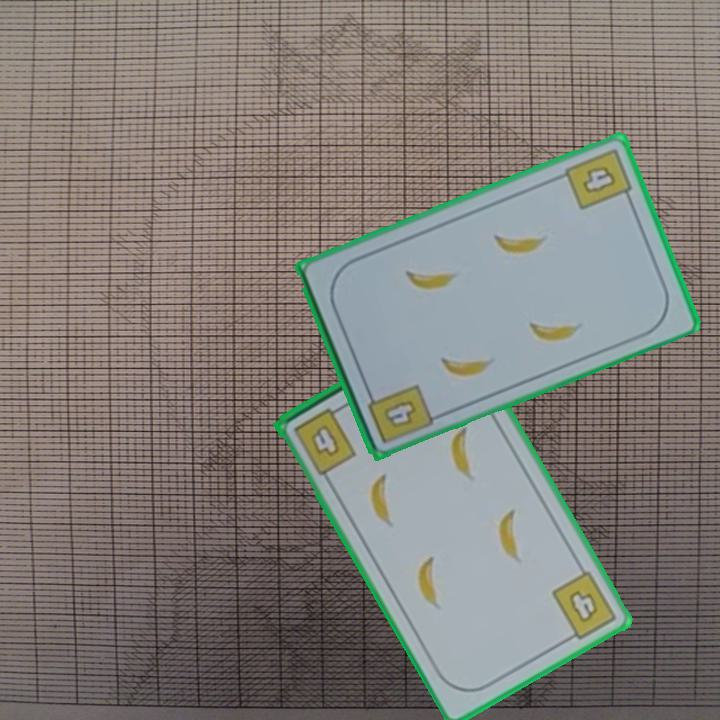4b: (548, 567, 620, 646), (290, 401, 360, 478), (561, 144, 636, 213), (363, 380, 434, 446)
